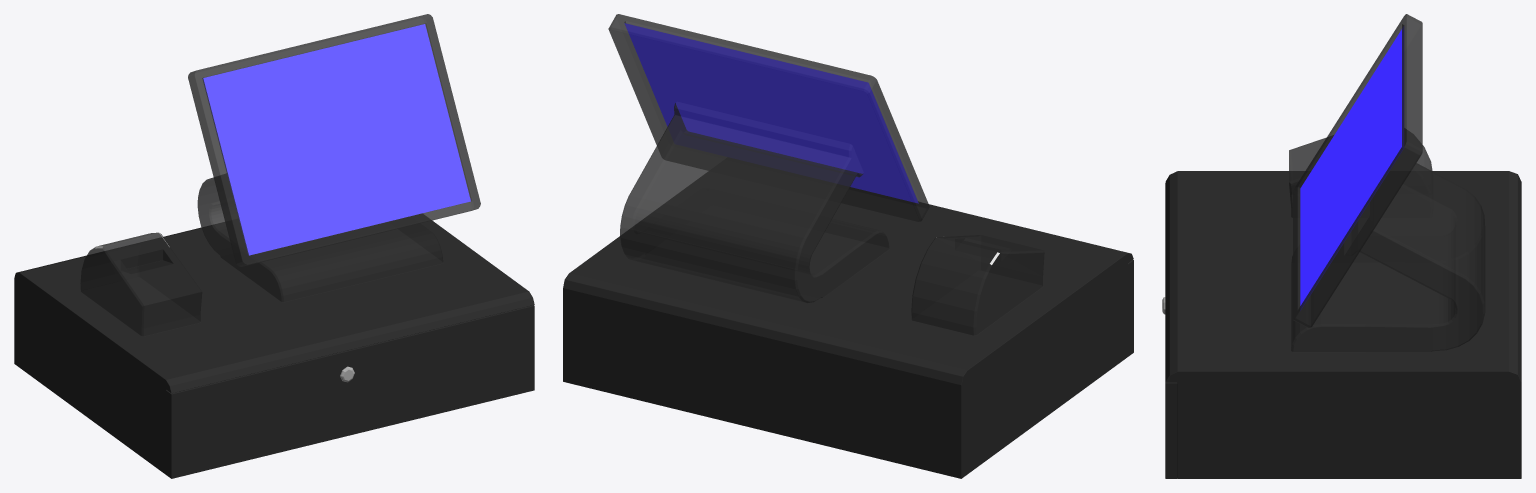
The model's file is register_exportPrep.gltf.
The picture shows the model from 3 angles, left to right: view 1: azimuth 30°, elevation 25°; view 2: azimuth 150°, elevation 25°; view 3: azimuth 270°, elevation 25°; orthographic projection. The views are drawn at different scales.
Parts seen in each view (by area): view 1: Register_Body, Register_Drawer; view 2: Register_Body; view 3: Register_Body, Register_Drawer.
Part boxes in pixels (x1,y1,x2,y2): Register_Body: (14, 14, 534, 474); Register_Drawer: (166, 305, 534, 478); Register_Body: (563, 14, 1133, 478); Register_Body: (1165, 14, 1521, 478); Register_Drawer: (1162, 183, 1177, 478).
Bounding box in the file's own units: 0.4848 × 0.3767 × 0.363.
